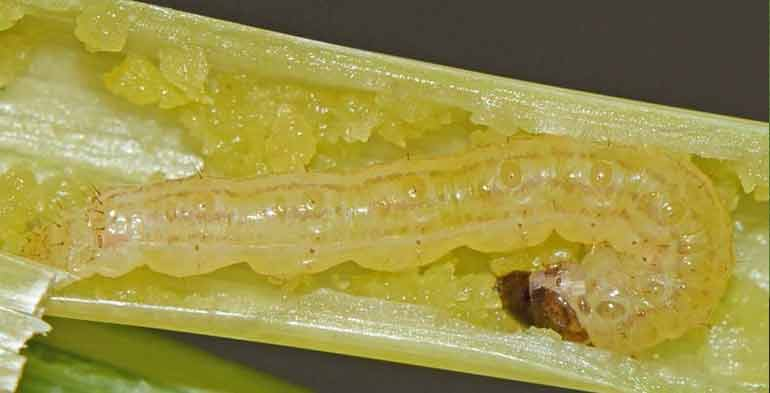Paddy_stemborer: (114, 132, 735, 354)
